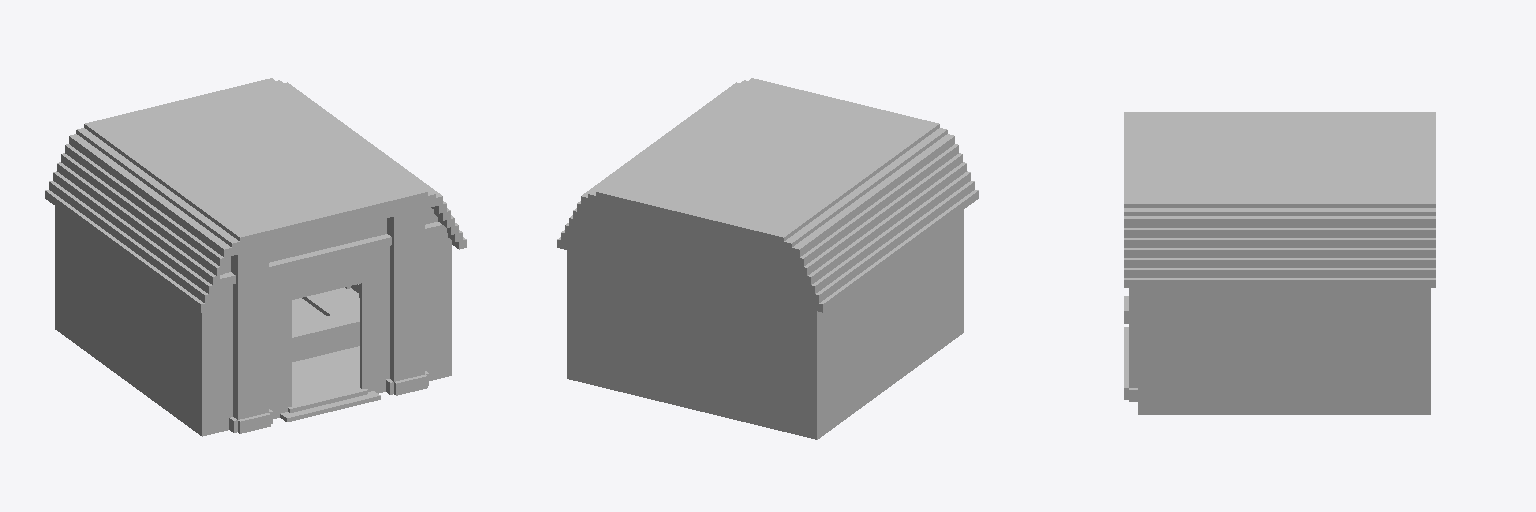
Rendered from Shop.obj.
3 views of the same model, side by side, from view 1: azimuth 30°, elevation 25°; view 2: azimuth 150°, elevation 25°; view 3: azimuth 270°, elevation 25° (orthographic).
Parts seen in each view (by area): view 1: object 1; view 2: object 1; view 3: object 1.
Boxes of the visible parts, <box> form: object 1: <box>45,78,466,436</box>; object 1: <box>557,78,978,439</box>; object 1: <box>1124,112,1435,414</box>.
Bounding box in the file's own units: 6.8 × 4.8 × 6.9.